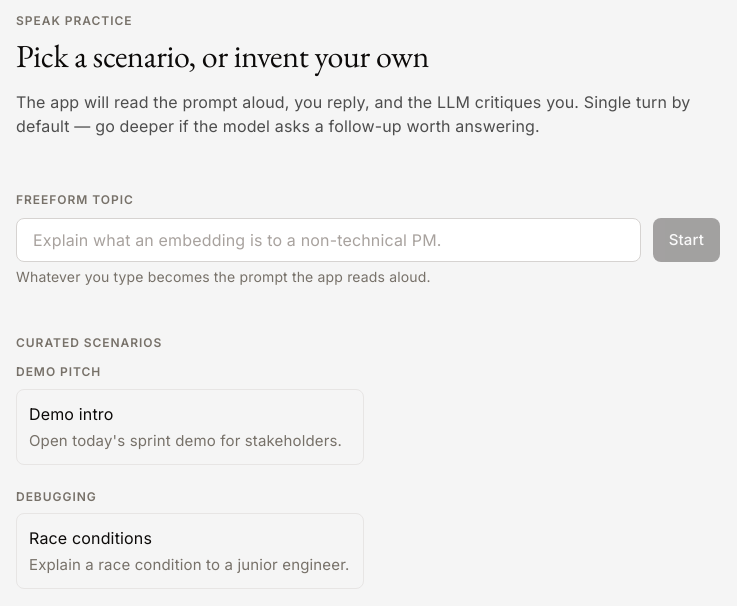
Test: SpeakSession — picker › synthesizes the chosen prompt and moves into the active flow
The width and height of the screenshot is (737, 606).
Click the text "Demo intro": coordinates (71, 414) [29,404,114,424]
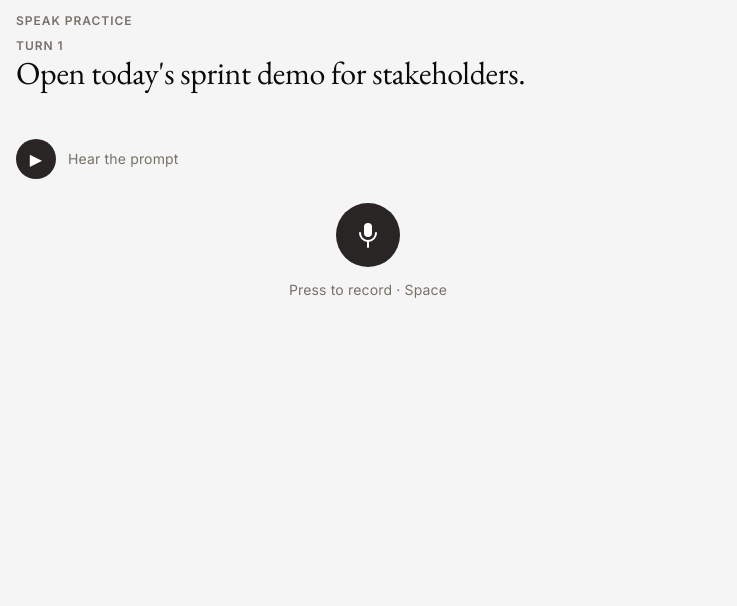
Result: the heading "Open today's sprint demo for stakeholders." is shown at [16,52,525,94]
Result: the text "Turn 1" is shown at [16,38,64,53]
